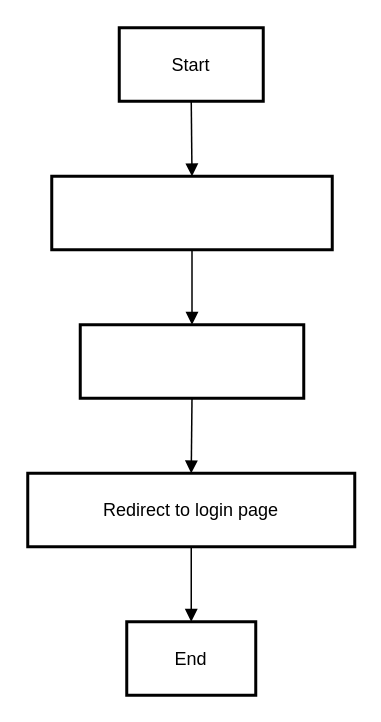
Some shapes in this 381 by 722 pixel diagram are drawn without their labels. The box of each missing label's shape, as (x1, y1, x2, y2) in pixels:
Log user out: (78, 322, 304, 399)
User clicks logout: (50, 174, 333, 250)
